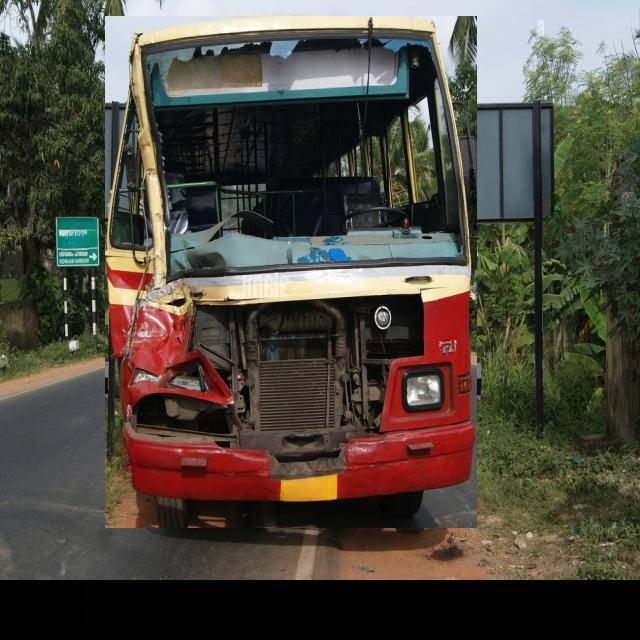accident: (106, 17, 477, 528)
